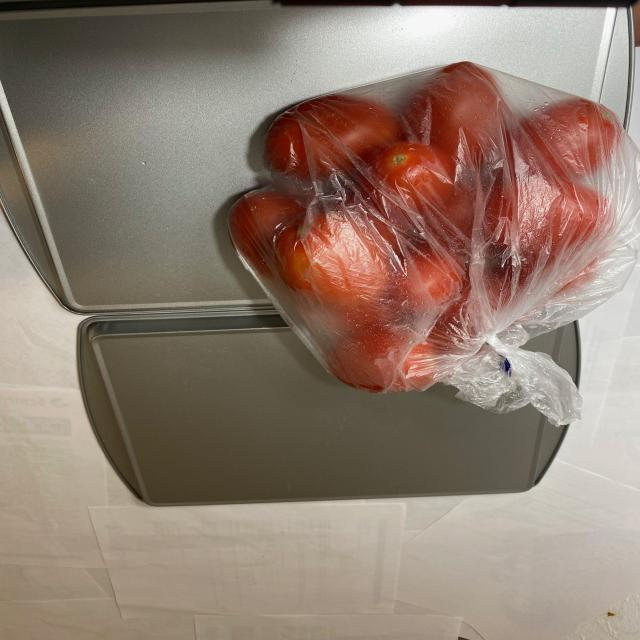tomato: (226, 64, 631, 393)
